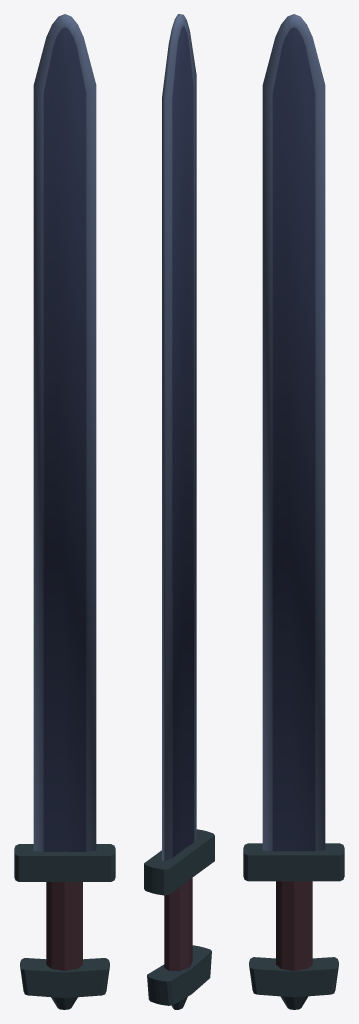
File: Sword_01.fbx
3 views of the same model, side by side, from view 1: azimuth 90°, elevation 25°; view 2: azimuth 150°, elevation 25°; view 3: azimuth 270°, elevation 25° (orthographic).
Visible parts, largest first — view 1: Sword 01; view 2: Sword 01; view 3: Sword 01.
Boxes of the visible parts, <box> form: Sword 01: <box>14,14,115,1009</box>; Sword 01: <box>144,14,214,1009</box>; Sword 01: <box>243,14,344,1009</box>.
Bounding box in the file's own units: 3.36 × 130 × 12.01.
